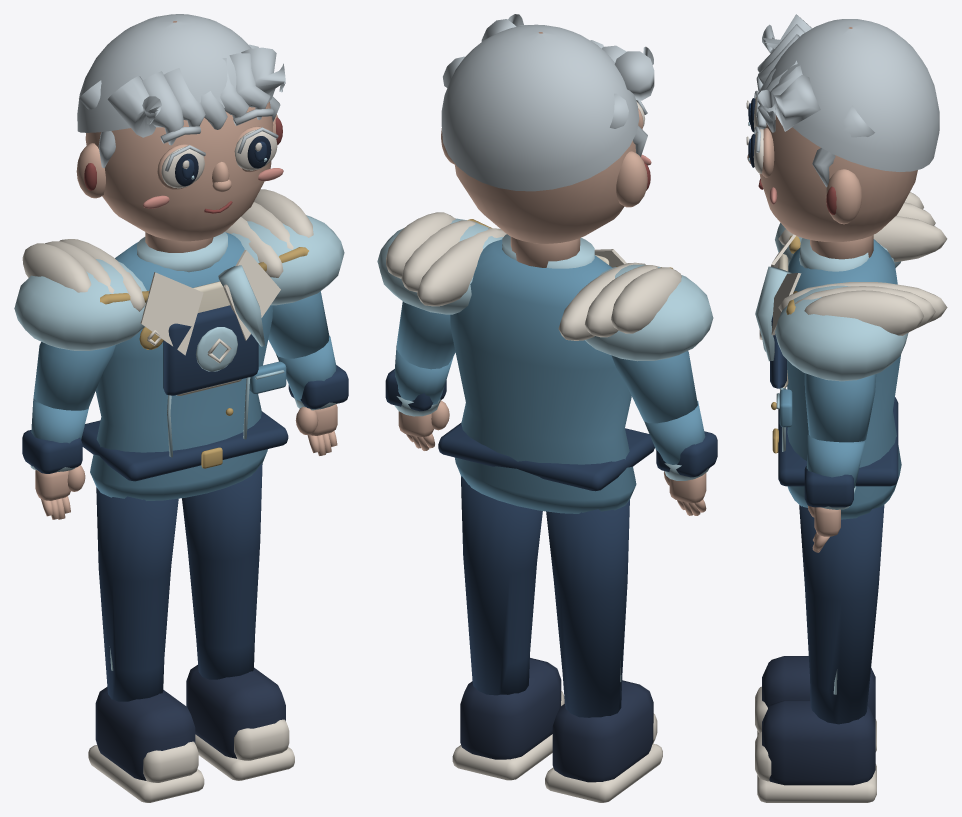
File: elite_frost_sentinel.glb
3 views of the same model, side by side, from view 1: azimuth 30°, elevation 25°; view 2: azimuth 150°, elevation 25°; view 3: azimuth 270°, elevation 25° (orthographic).
Parts seen in each view (by area): view 1: figure.014; view 2: figure.014; view 3: figure.014.
Boxes of the visible parts, x1,y1,x2,y2 form: figure.014: [14, 14, 348, 802]; figure.014: [377, 14, 717, 802]; figure.014: [746, 14, 947, 802].
Bounding box in the file's own units: 1.18 × 2.63 × 0.6471.
